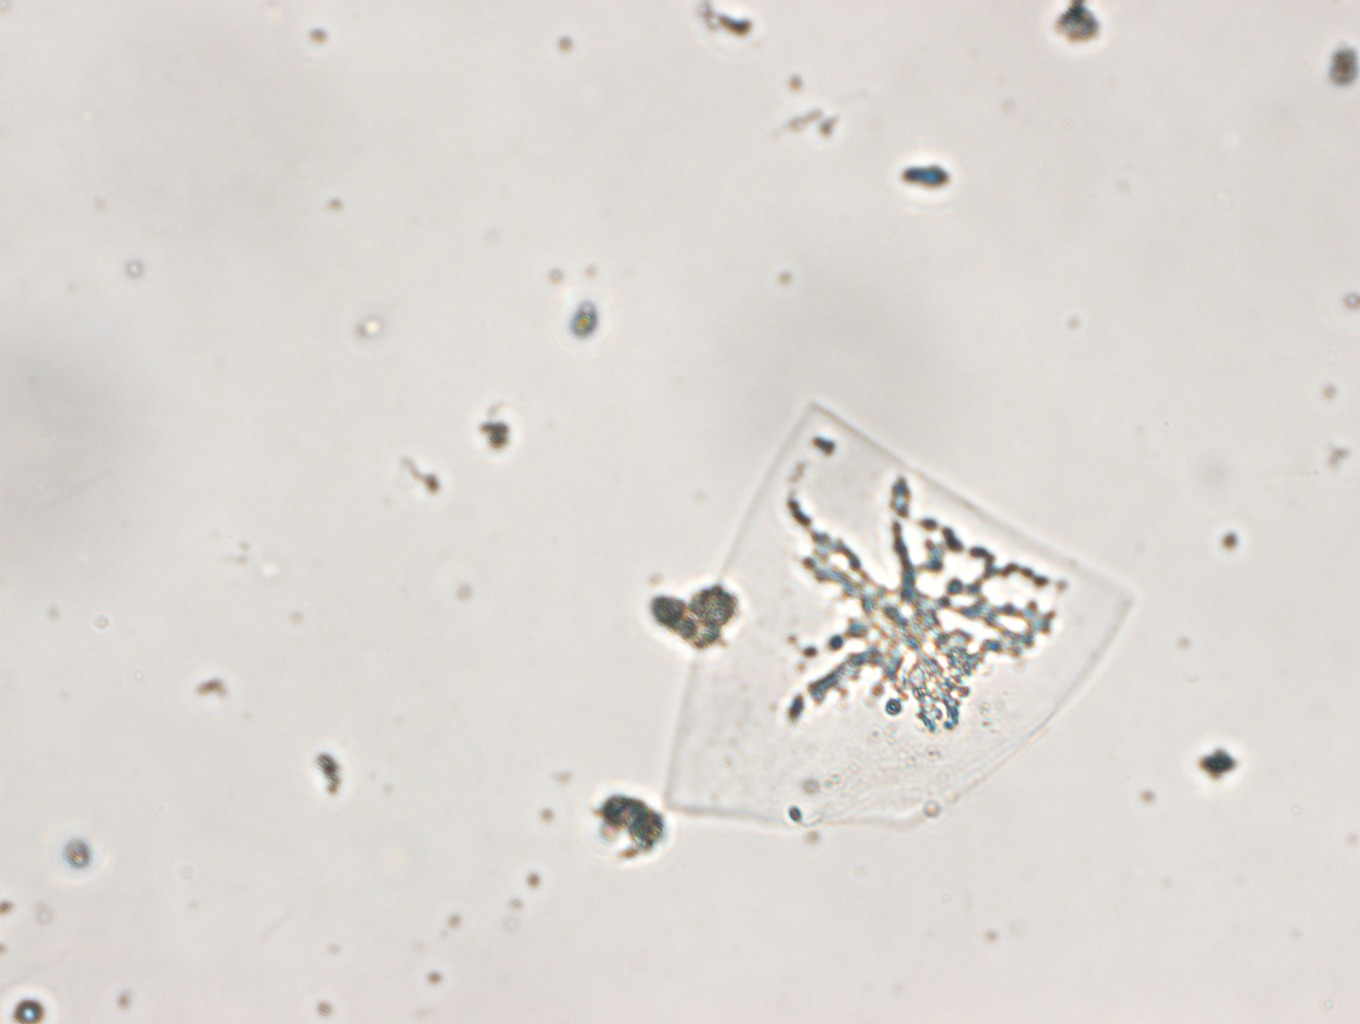helicotheca: (656, 392, 1149, 842)
